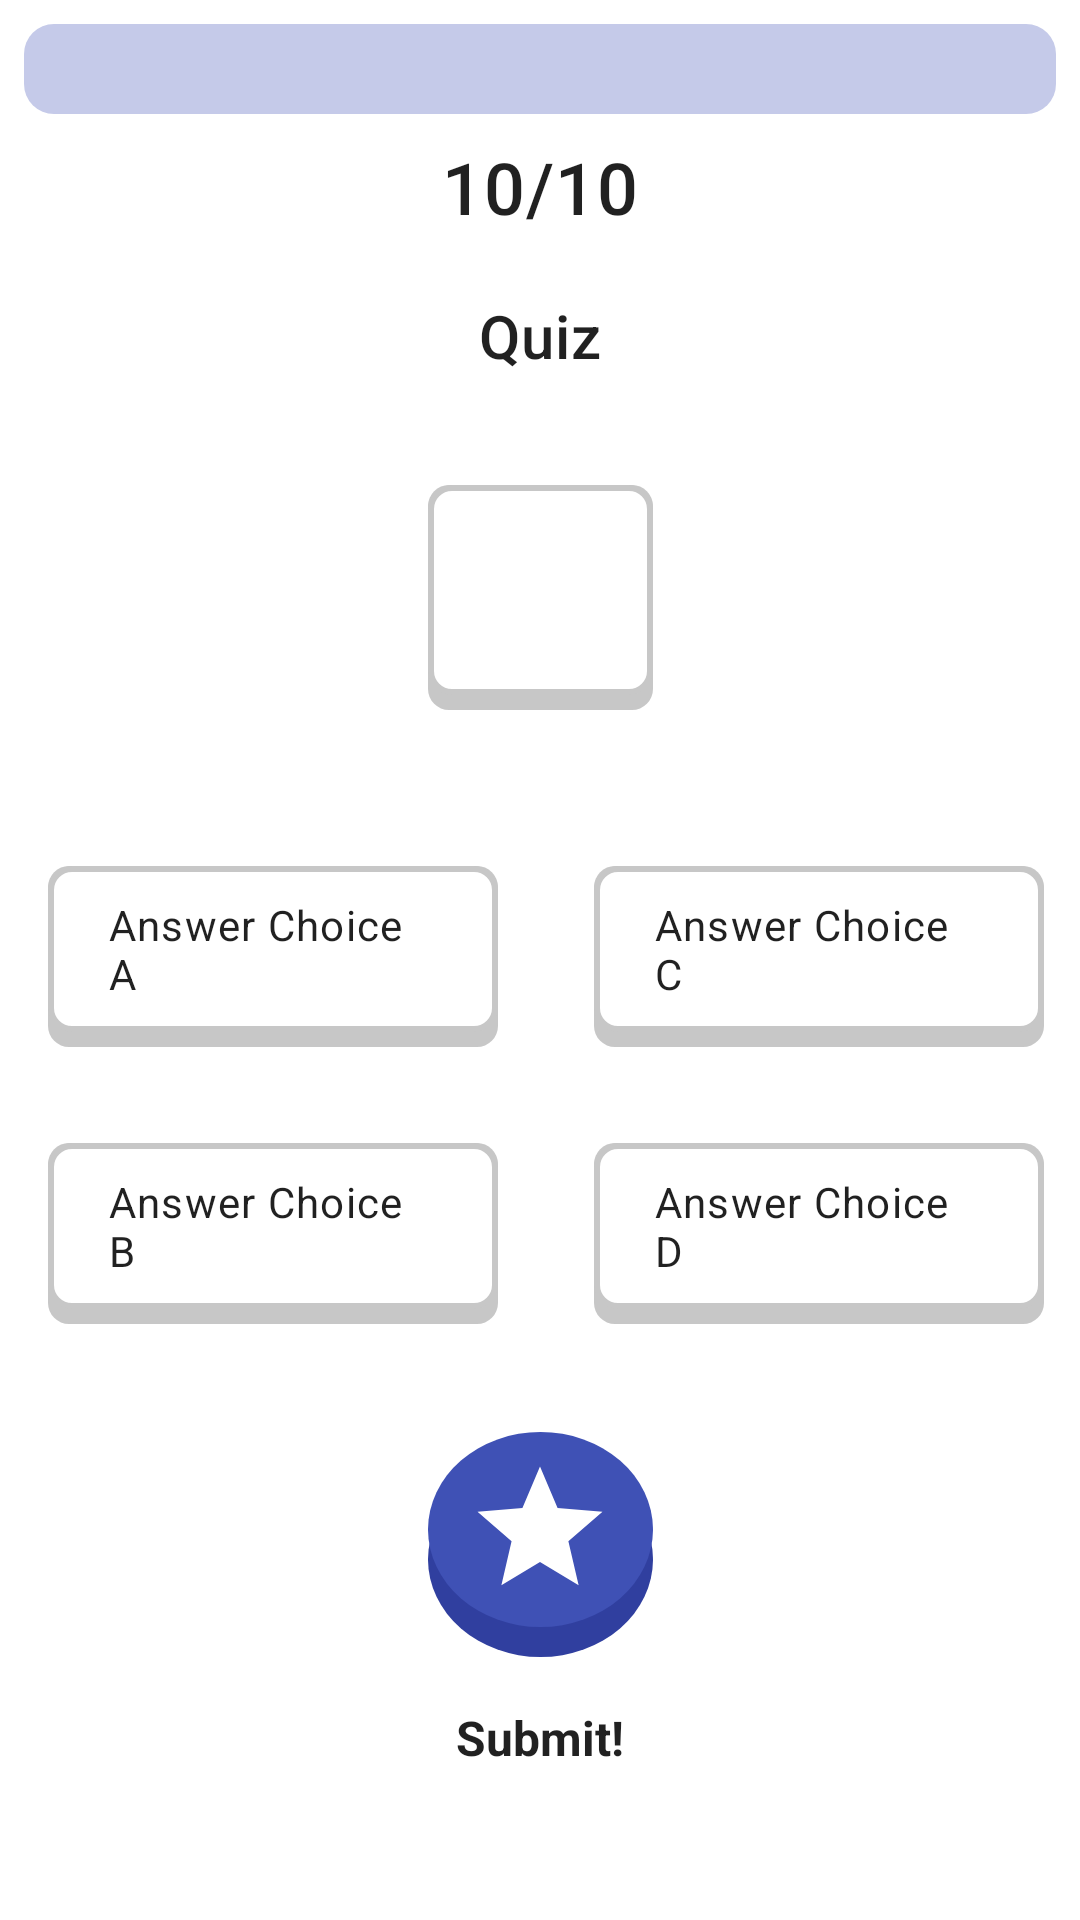

Point at icon controls on the screen. Image size 1080 × 1920, points as (x,y).
star: (540,1526)
